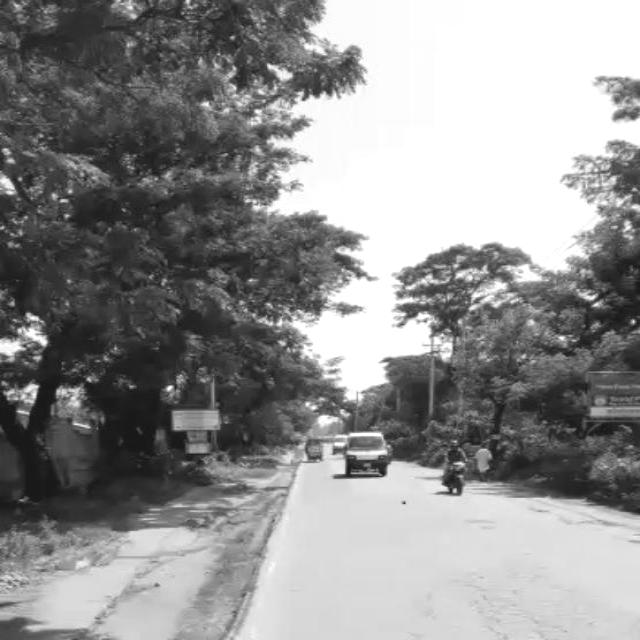motorcycle: (436, 453, 465, 490), (300, 436, 322, 459)
truck: (340, 429, 384, 470), (324, 432, 340, 449)
